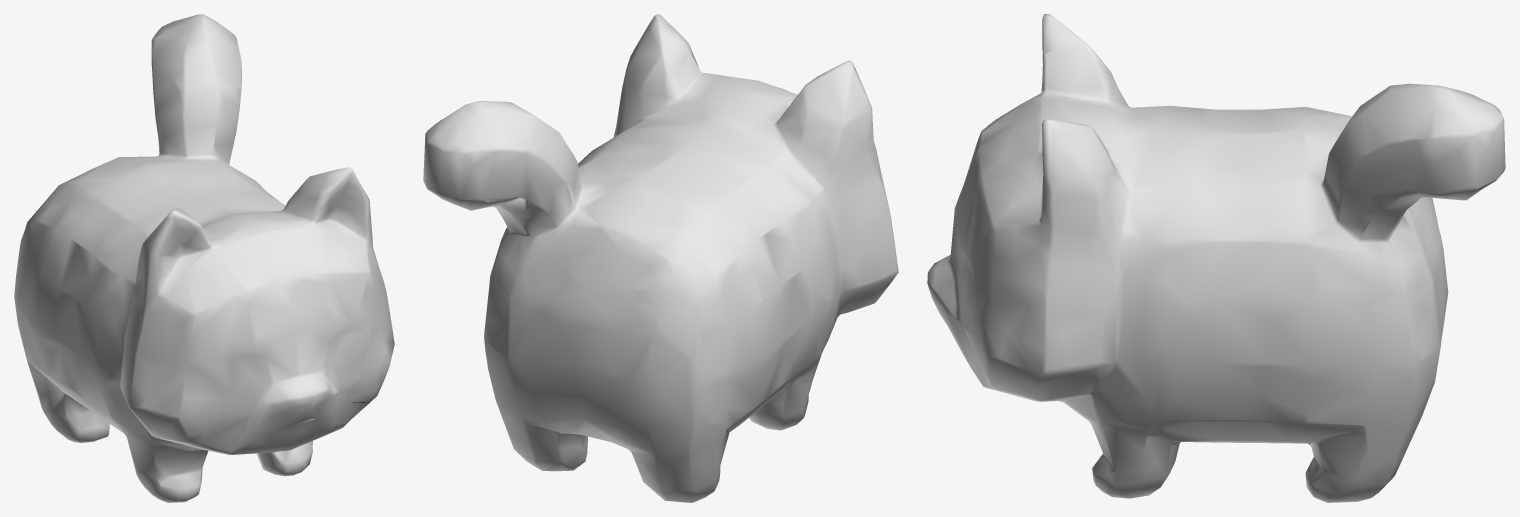
Rendered from tabby-cat-lowpoly.glb.
The picture shows the model from 3 angles, left to right: view 1: azimuth 30°, elevation 25°; view 2: azimuth 150°, elevation 25°; view 3: azimuth 270°, elevation 25°; orthographic projection. The views are drawn at different scales.
Visible parts, largest first — view 1: world; view 2: world; view 3: world.
Boxes of the visible parts, left/top/right/bottom form: world: left=14, top=14, right=394, bottom=502; world: left=423, top=14, right=898, bottom=502; world: left=927, top=14, right=1505, bottom=502.
Bounding box in the file's own units: 0.6422 × 0.8137 × 0.9873.
1 material, 1 textured.
